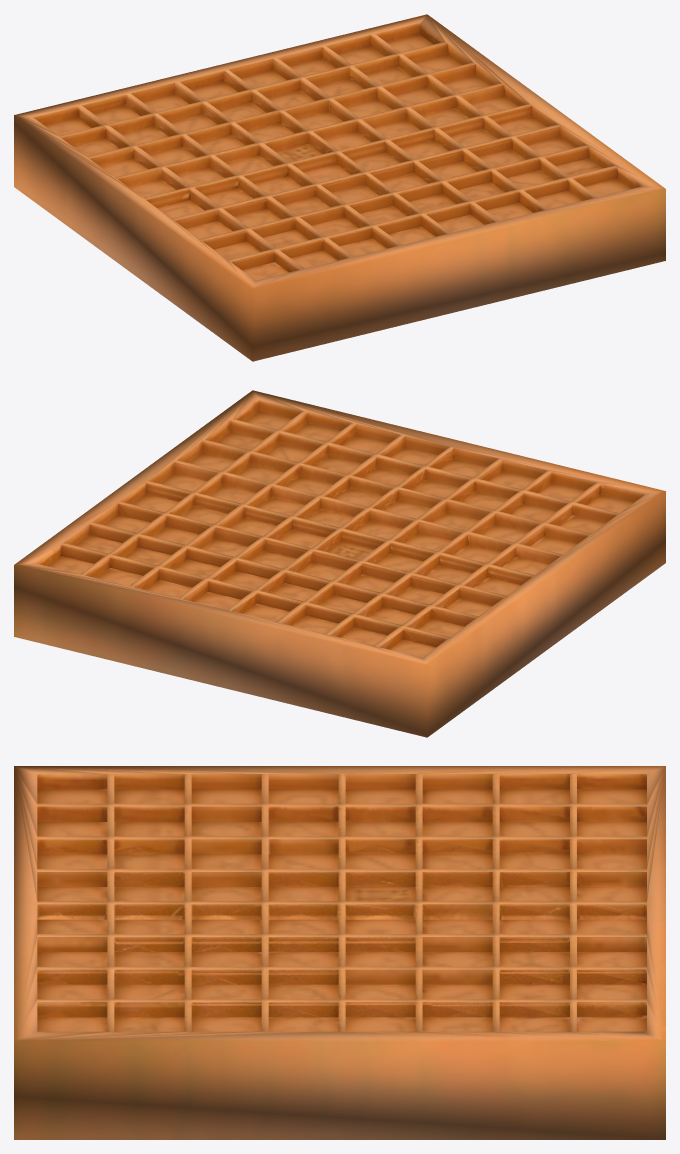
The model's file is Meshy_AI__0118084653_texture.fbx.
The picture shows the model from 3 angles, top to bottom: view 1: azimuth 30°, elevation 25°; view 2: azimuth 150°, elevation 25°; view 3: azimuth 270°, elevation 25°; orthographic projection. The views are drawn at different scales.
Parts seen in each view (by area): view 1: Mesh_0; view 2: Mesh_0; view 3: Mesh_0.
Boxes of the visible parts, left/top/right/bottom form: Mesh_0: left=14, top=14, right=665, bottom=361; Mesh_0: left=14, top=390, right=665, bottom=737; Mesh_0: left=14, top=766, right=665, bottom=1139.
Size of the model in its own units: 200 by 33.23 by 200.
Materials: 1 (1 with a texture image).
